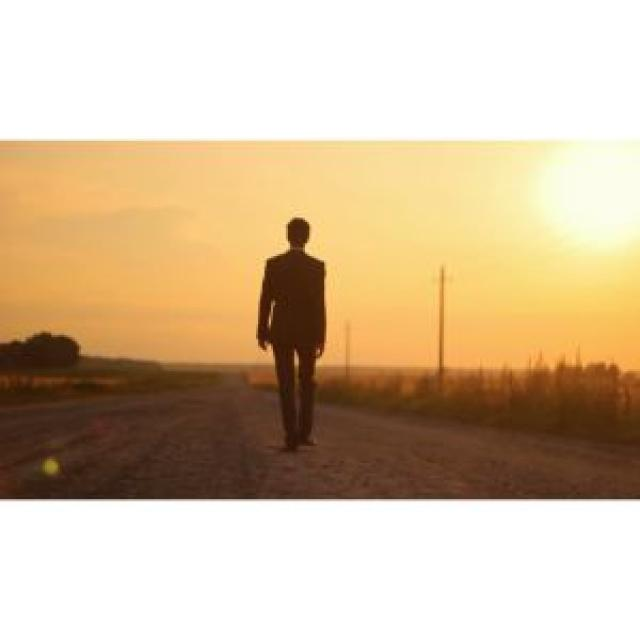nonfall: (244, 212, 357, 459)
